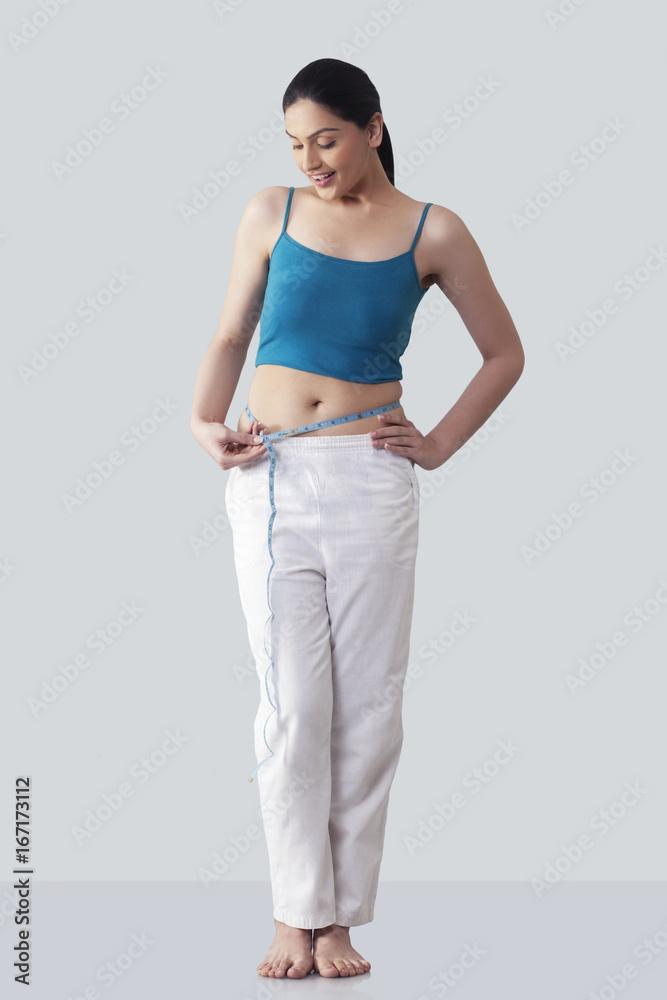Human: (164, 34, 606, 1000)
